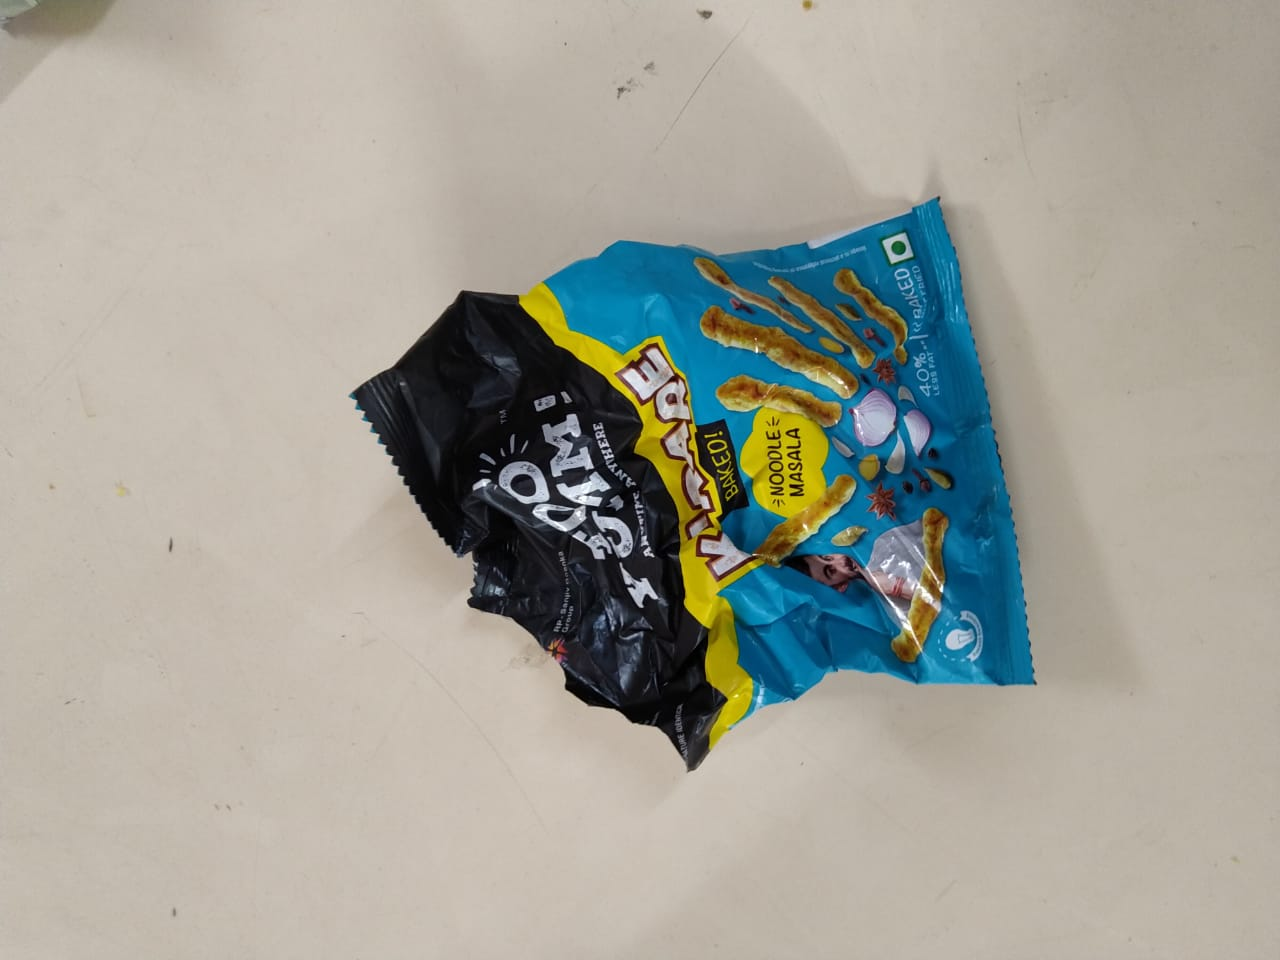plastic: (377, 201, 1025, 757)
tooyumm: (455, 365, 713, 659), (503, 413, 661, 611), (493, 383, 639, 553), (551, 433, 655, 597)
wrapper: (361, 183, 1051, 721)
